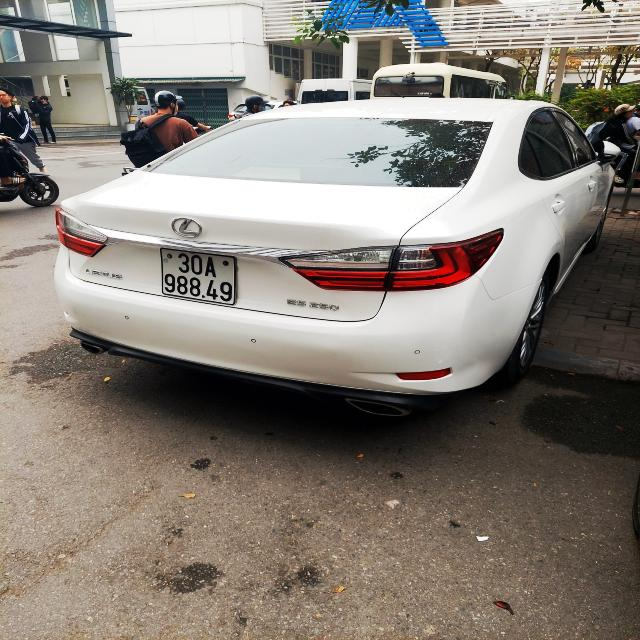license_plate: (160, 245, 237, 309)
